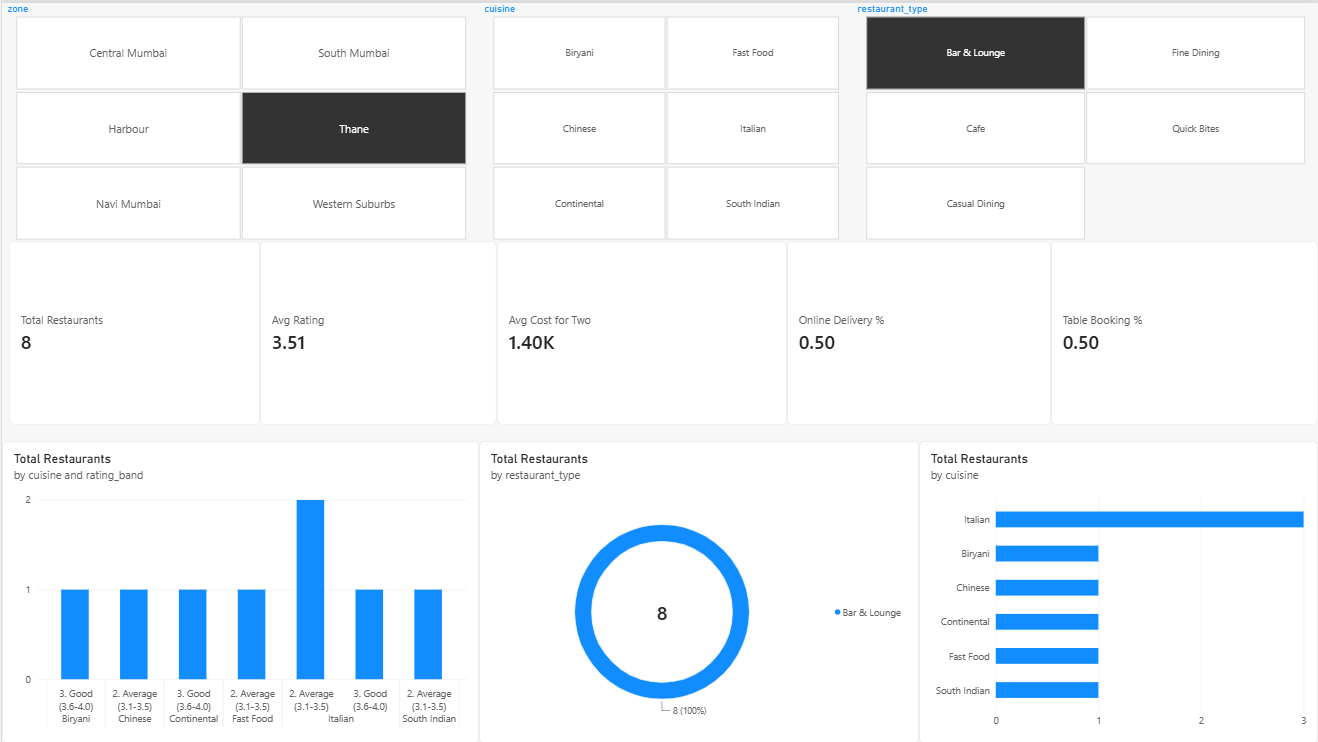

This screenshot's page, from the dashboard's own definition file:
{"tool":"powerbi","page":{"name":"Page 1","canvas":[1920,1080],"ordinal":0},"visuals":[{"type":"slicer","fields":{"Values":["restaurants_clean.zone"]},"box":[0,0,695.9,347.2],"z":0},{"type":"slicer","fields":{"Values":["restaurants_clean.cuisine"]},"box":[695.9,0,544.2,347.2],"z":1000},{"type":"slicer","fields":{"Values":["restaurants_clean.restaurant_type"]},"box":[1240.1,0,679.9,347.2],"z":2000},{"type":"cardVisual","fields":{"Data":["restaurants_clean.Total Restaurants"]},"box":[10.2,347.2,366.2,268.4],"z":3000},{"type":"cardVisual","fields":{"Data":["restaurants_clean.Avg Rating"]},"box":[376.4,347.2,345.8,268.4],"z":4000},{"type":"cardVisual","fields":{"Data":["restaurants_clean.Online Delivery %"]},"box":[1145.3,347.2,385.2,268.4],"z":5000},{"type":"cardVisual","fields":{"Data":["restaurants_clean.Avg Cost for Two"]},"box":[722.2,347.2,423.1,268.4],"z":6000},{"type":"cardVisual","fields":{"Data":["restaurants_clean.Table Booking %"]},"box":[1530.5,347.2,389.5,268.4],"z":7000},{"type":"clusteredColumnChart","fields":{"Category":["restaurants_clean.cuisine","restaurants_clean.rating_band"],"Y":["restaurants_clean.Total Restaurants"]},"box":[0,639,695.9,440.6],"z":8000},{"type":"donutChart","fields":{"Category":["restaurants_clean.restaurant_type"],"Y":["restaurants_clean.Total Restaurants"]},"box":[695.9,639,641.9,440.6],"z":8001},{"type":"clusteredBarChart","fields":{"Category":["restaurants_clean.cuisine"],"Y":["restaurants_clean.Total Restaurants"]},"box":[1337.9,639,582.1,440.6],"z":8002}]}

Visuals, with their boxes in screenshot pixels (x1, y1, x2, y2), scaled from the page's 1920x1080 canvas onto the 1318x742 screenshot:
slicer - restaurants_clean.zone: x1=0 y1=0 x2=478 y2=239
slicer - restaurants_clean.cuisine: x1=478 y1=0 x2=851 y2=239
slicer - restaurants_clean.restaurant_type: x1=851 y1=0 x2=1317 y2=239
cardVisual - restaurants_clean.Total Restaurants: x1=7 y1=239 x2=258 y2=423
cardVisual - restaurants_clean.Avg Rating: x1=258 y1=239 x2=496 y2=423
cardVisual - restaurants_clean.Online Delivery %: x1=786 y1=239 x2=1051 y2=423
cardVisual - restaurants_clean.Avg Cost for Two: x1=496 y1=239 x2=786 y2=423
cardVisual - restaurants_clean.Table Booking %: x1=1051 y1=239 x2=1317 y2=423
clusteredColumnChart - restaurants_clean.cuisine x restaurants_clean.rating_band: x1=0 y1=439 x2=478 y2=741
donutChart - restaurants_clean.restaurant_type x restaurants_clean.Total Restaurants: x1=478 y1=439 x2=918 y2=741
clusteredBarChart - restaurants_clean.cuisine x restaurants_clean.Total Restaurants: x1=918 y1=439 x2=1317 y2=741
